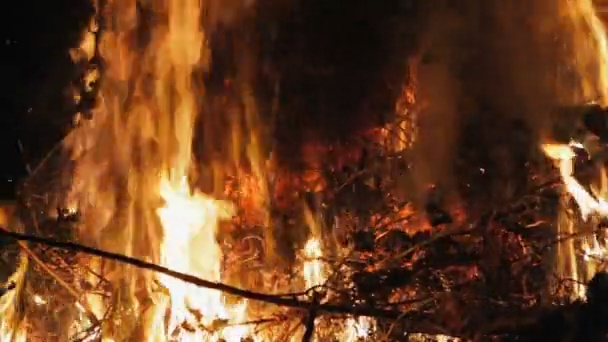fire: (56, 1, 262, 342), (543, 141, 608, 221), (546, 232, 608, 300), (1, 258, 33, 342), (301, 238, 328, 300), (314, 315, 374, 342)
